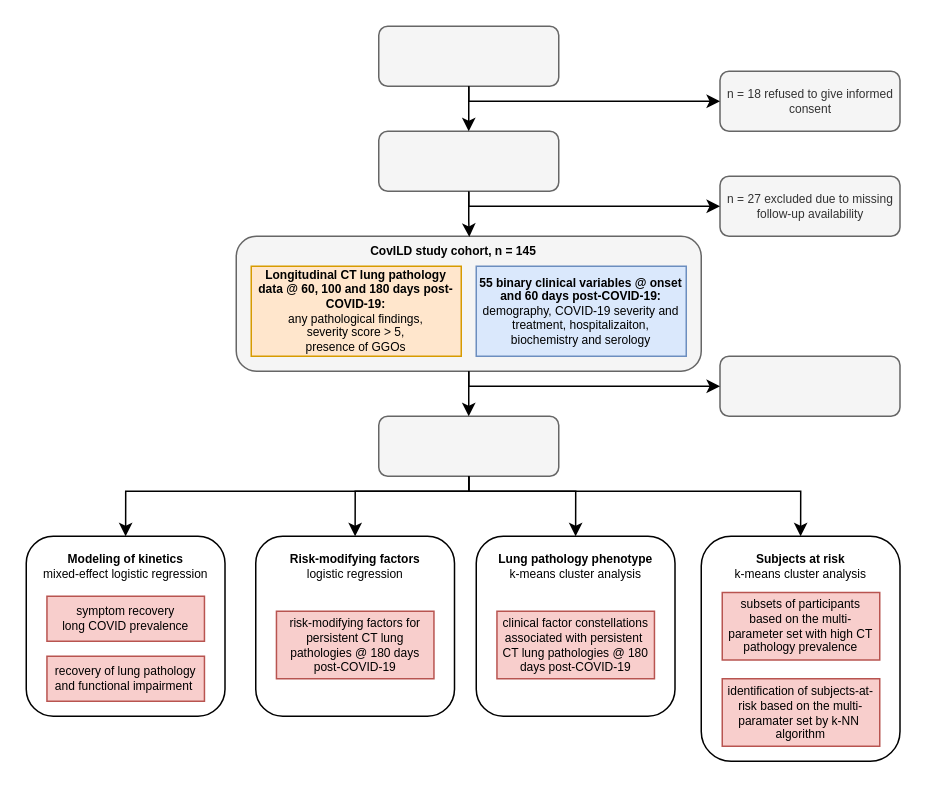
The diagram is 927 pixels wide and 788 high, and some of its shapes have lost their labels. The box of each missing label's shape, as (x1, y1, x2, y2) in pixels:
n = 108 participants with complete parameter record: (377, 415, 559, 476)
n = 170 initially recruited: (377, 130, 559, 191)
n = 190 COVID-19 subjects screened for participation: (377, 25, 559, 86)
n = 37 with incomplete data record excluded from the analysis: (718, 355, 900, 416)
